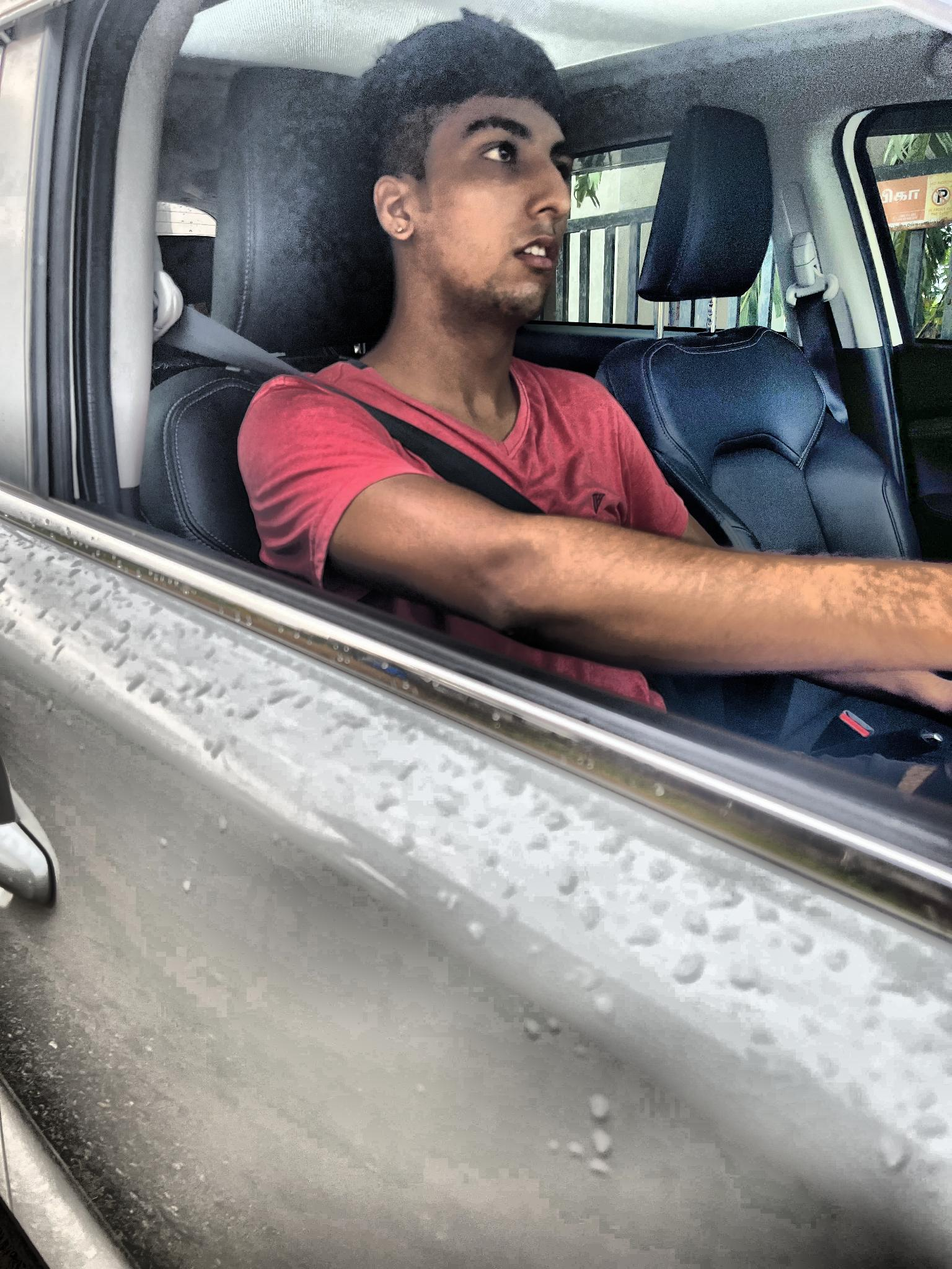seatbelt: (144, 272, 596, 577)
